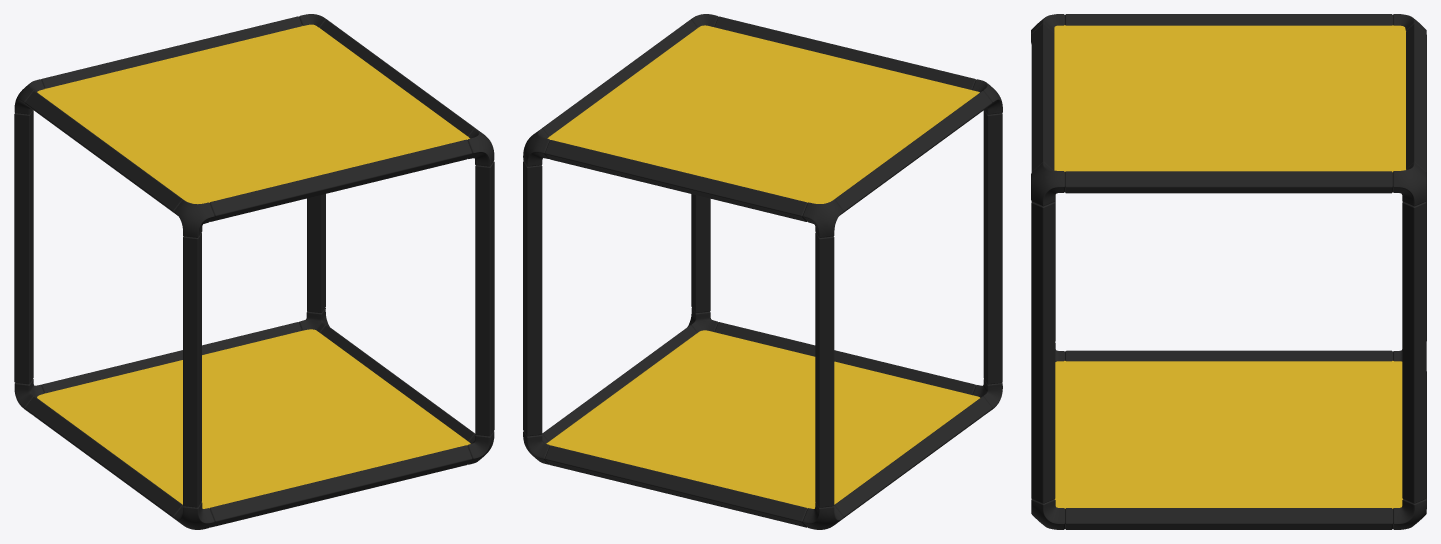
The picture shows the model from 3 angles, left to right: view 1: azimuth 30°, elevation 25°; view 2: azimuth 150°, elevation 25°; view 3: azimuth 270°, elevation 25°; orthographic projection. The views are drawn at different scales.
Parts seen in each view (by area): view 1: 374x374x374; view 2: 374x374x374; view 3: 374x374x374.
Part boxes in pixels (x1,y1,x2,y2): 374x374x374: [14, 14, 494, 529]; 374x374x374: [523, 14, 1002, 529]; 374x374x374: [1031, 14, 1426, 529].
Bounding box in the file's own units: 0.4517 × 0.4516 × 0.4513.
